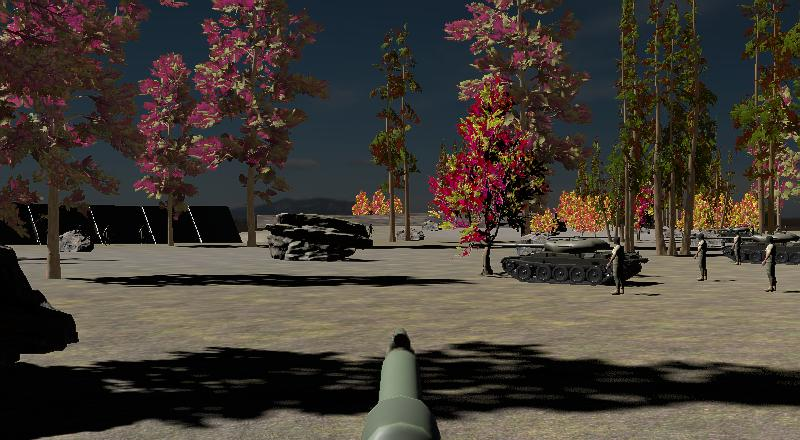Human: (607, 232, 626, 297), (761, 233, 779, 293), (695, 231, 709, 283)
Tank: (461, 235, 648, 287), (717, 229, 800, 266)
